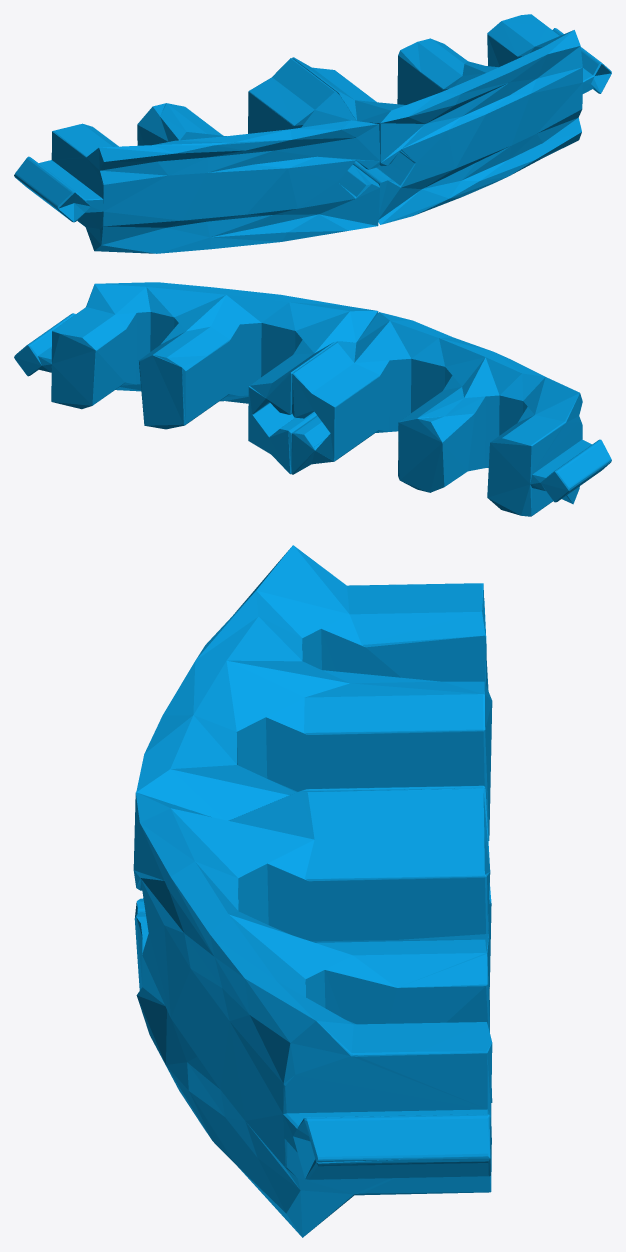
Rendered from trainbridgespan.obj.
3 views of the same model, one above another, from view 1: azimuth 30°, elevation 25°; view 2: azimuth 150°, elevation 25°; view 3: azimuth 270°, elevation 25° (orthographic). The views are drawn at different scales.
Parts seen in each view (by area): view 1: Object.2, Object.1; view 2: Object.2, Object.1; view 3: Object.1, Object.2.
Part boxes in pixels (x1,y1,x2,y2): Object.2: (14,58,380,253); Object.1: (292,14,611,224); Object.2: (291,312,611,516); Object.1: (14,282,378,474); Object.1: (133,788,492,1237); Object.2: (134,545,492,990).
Bounding box in the file's own units: 220 × 42.49 × 61.71.
